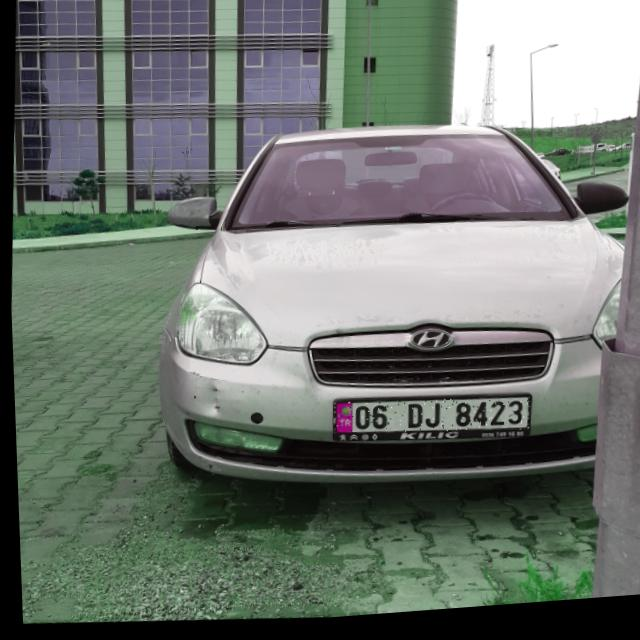license_plate: (328, 395, 527, 449)
